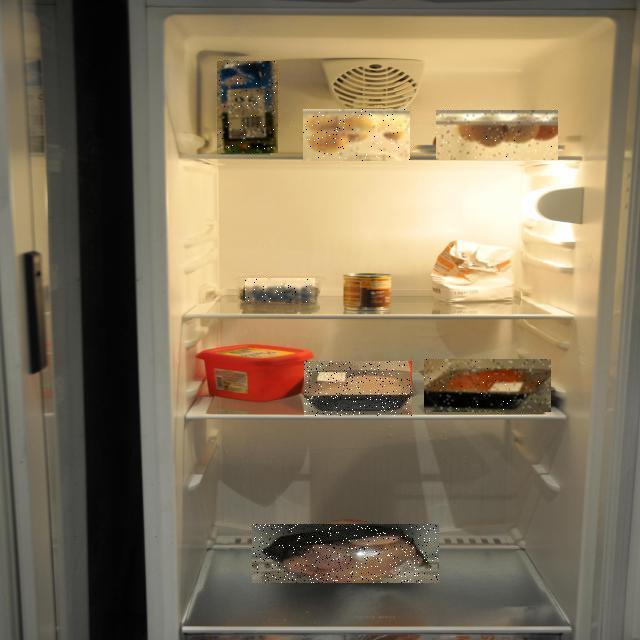Eggs: (436, 110, 558, 160)
Meat: (252, 524, 439, 583), (424, 359, 551, 412), (304, 361, 412, 416)
Milk: (217, 61, 278, 153)
Olives: (245, 278, 315, 302)
Potatoes: (303, 109, 410, 161)
